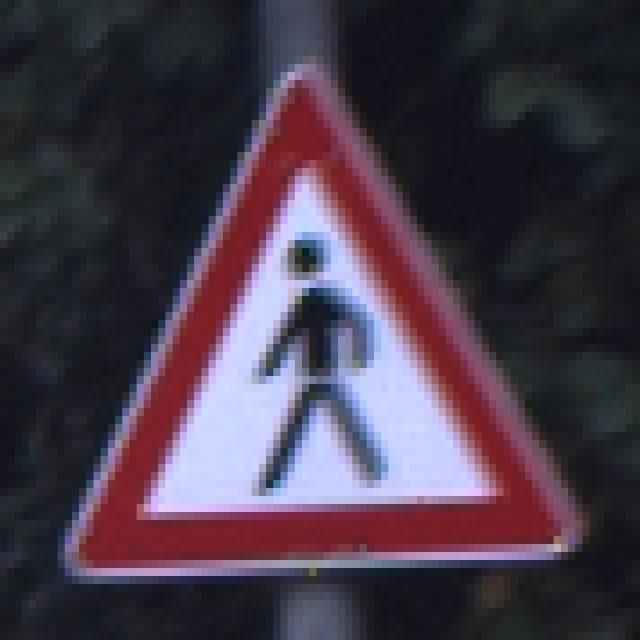pedestrian crossing: (69, 64, 580, 558)
